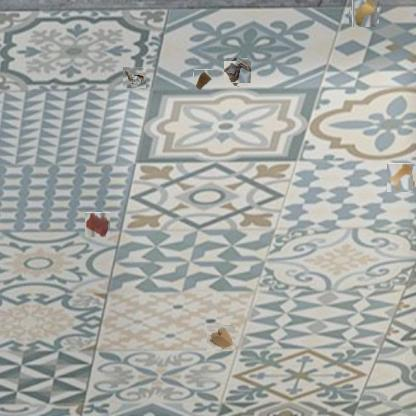dirty: (207, 325, 235, 351), (350, 0, 378, 26), (224, 59, 250, 85), (122, 66, 146, 88), (193, 69, 213, 92)
liquid: (387, 164, 414, 192), (85, 212, 110, 238)
